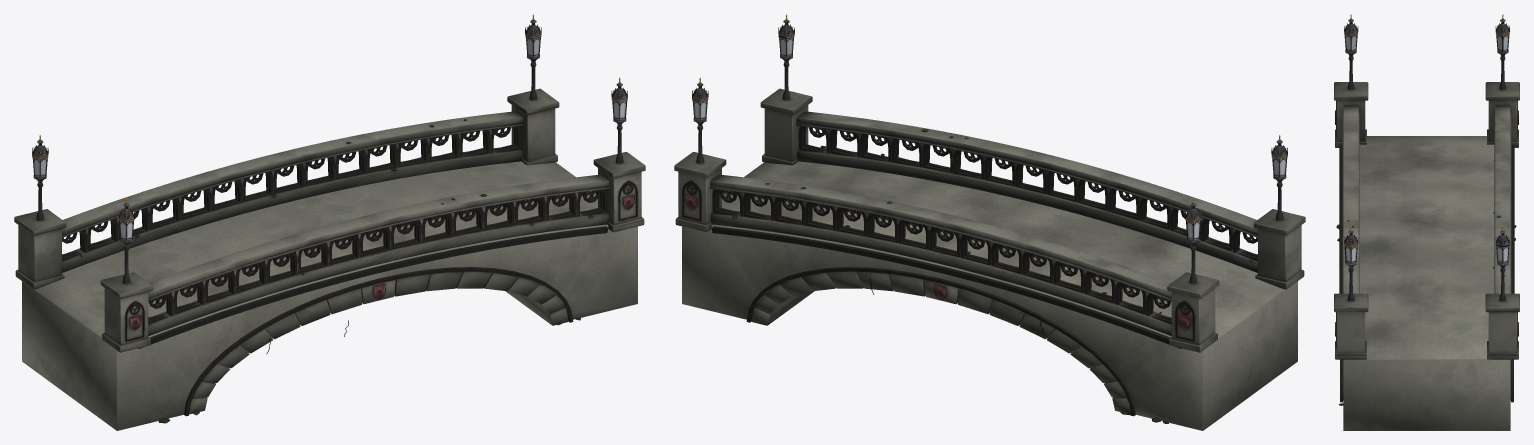
Rendered from BridgeStoneArch.fbx.
3 views of the same model, side by side, from view 1: azimuth 30°, elevation 25°; view 2: azimuth 150°, elevation 25°; view 3: azimuth 270°, elevation 25° (orthographic). The views are drawn at different scales.
Visible parts, largest first — view 1: BridgeStoneArch_Wall, BridgeStoneArch_ParapetL, BridgeStoneArch_ParapetR, BridgeStoneArch_Main, BridgeStoneArch_Piers, BridgeStoneArch_Glass; view 2: BridgeStoneArch_Wall, BridgeStoneArch_ParapetR, BridgeStoneArch_ParapetL, BridgeStoneArch_Main, BridgeStoneArch_Piers, BridgeStoneArch_Glass; view 3: BridgeStoneArch_Wall, BridgeStoneArch_Main, BridgeStoneArch_Piers, BridgeStoneArch_ParapetR, BridgeStoneArch_ParapetL, BridgeStoneArch_Glass.
Part boxes in pixels (x1,y1,x2,y2): BridgeStoneArch_Wall: (22, 161, 637, 430); BridgeStoneArch_ParapetL: (148, 174, 610, 335); BridgeStoneArch_ParapetR: (62, 111, 523, 272); BridgeStoneArch_Main: (138, 14, 645, 423); BridgeStoneArch_Piers: (14, 135, 152, 352); BridgeStoneArch_Glass: (33, 37, 626, 240); BridgeStoneArch_Wall: (682, 161, 1297, 430); BridgeStoneArch_ParapetR: (709, 174, 1171, 335); BridgeStoneArch_ParapetL: (796, 111, 1257, 272); BridgeStoneArch_Main: (674, 14, 1181, 423); BridgeStoneArch_Piers: (1167, 135, 1305, 352); BridgeStoneArch_Glass: (693, 37, 1286, 240); BridgeStoneArch_Wall: (1343, 136, 1510, 430); BridgeStoneArch_Main: (1334, 145, 1519, 405); BridgeStoneArch_Piers: (1334, 14, 1519, 147); BridgeStoneArch_ParapetR: (1493, 105, 1511, 293); BridgeStoneArch_ParapetL: (1342, 105, 1359, 293); BridgeStoneArch_Glass: (1345, 35, 1508, 262).
Bounding box in the file's own units: 2425 × 1005 × 843.
